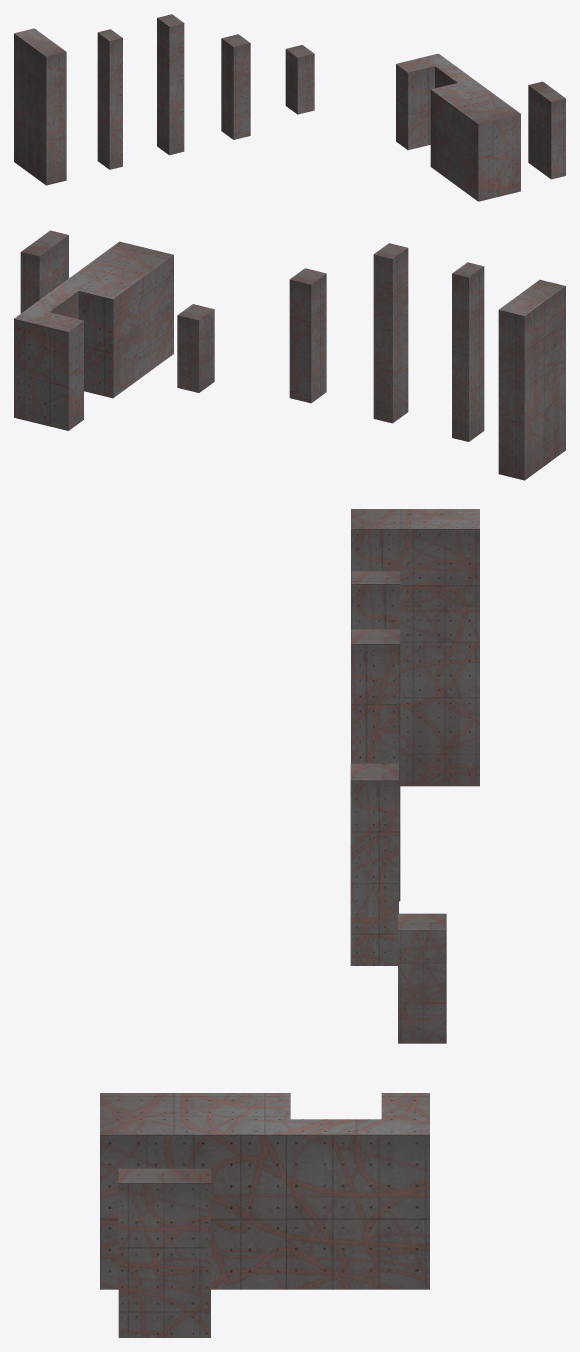
File: P2_platBases.fbx
3 views of the same model, one above another, from view 1: azimuth 30°, elevation 25°; view 2: azimuth 150°, elevation 25°; view 3: azimuth 270°, elevation 25° (orthographic). The views are drawn at different scales.
Visible parts, largest first — view 1: p2_platBases; view 2: p2_platBases; view 3: p2_platBases.
Boxes of the visible parts, bbox=[...] form: p2_platBases: bbox=[14, 14, 565, 201]; p2_platBases: bbox=[14, 230, 565, 480]; p2_platBases: bbox=[100, 509, 479, 1337].
Size of the model in its own units: 2554 by 1000 by 910.
